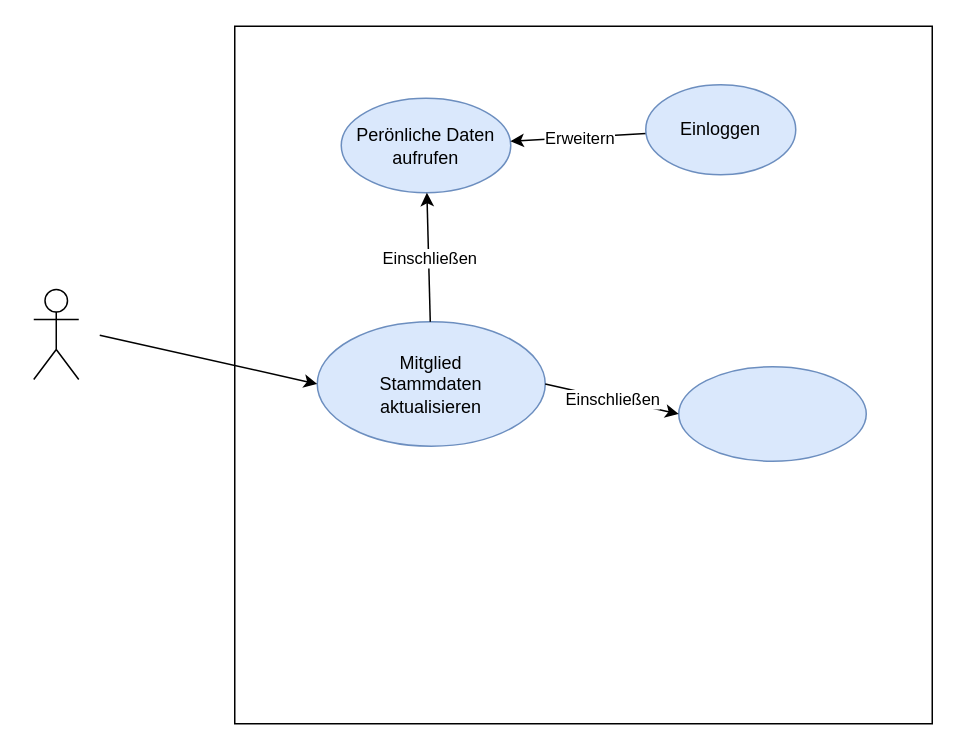
Some shapes in this 959 by 750 pixel diagram are drawn without their labels. Each missing label, with the centre of its shape:
"Mitglied" belongs at point (55, 334).
"Stammdaten- Anderungsformular aufrufen" belongs at point (771, 413).
